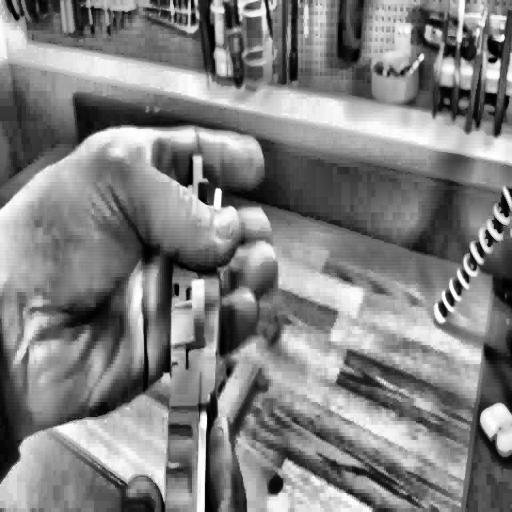busbar: (148, 144, 227, 512)
